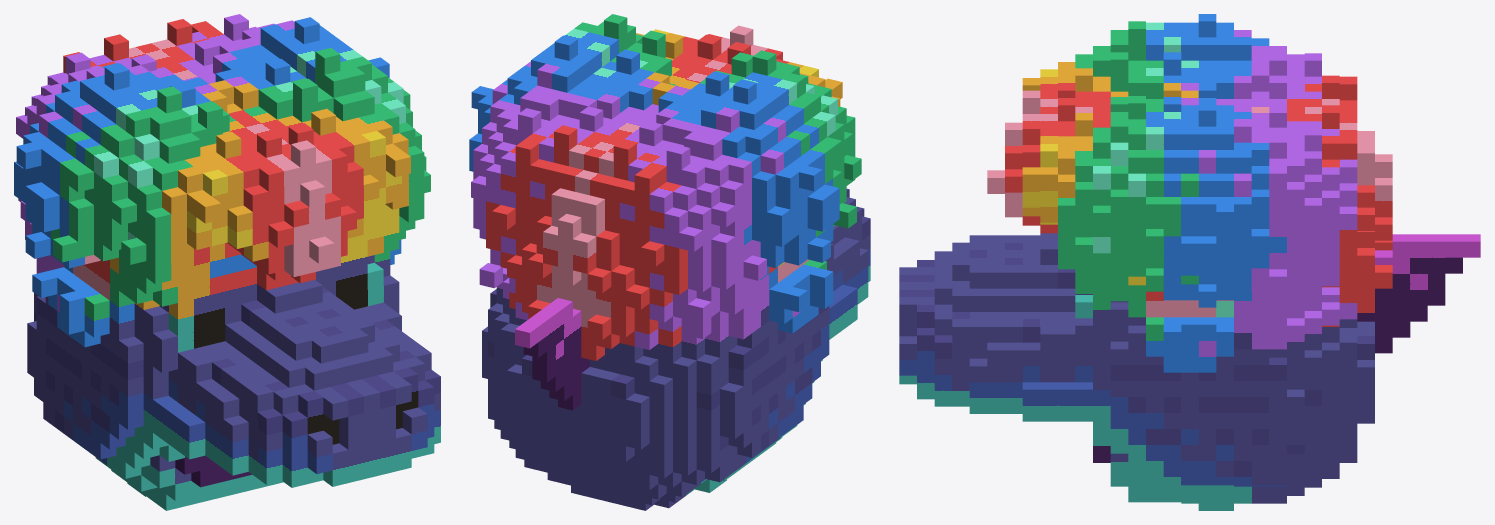
The model's file is clown wig_rainbow spectacles.gltf.
3 renders of one model, left to right at view 1: azimuth 30°, elevation 25°; view 2: azimuth 150°, elevation 25°; view 3: azimuth 270°, elevation 25°, orthographic. The views are drawn at different scales.
Visible parts, largest first — view 1: C08_H_ClownW_RedG_RainbowSpec-Mesh; view 2: C08_H_ClownW_RedG_RainbowSpec-Mesh; view 3: C08_H_ClownW_RedG_RainbowSpec-Mesh.
Boxes of the visible parts, x1=… form: C08_H_ClownW_RedG_RainbowSpec-Mesh: x1=14, y1=14, x2=440, y2=510; C08_H_ClownW_RedG_RainbowSpec-Mesh: x1=469, y1=14, x2=870, y2=510; C08_H_ClownW_RedG_RainbowSpec-Mesh: x1=899, y1=14, x2=1480, y2=510.
Size of the model in its own units: 23 by 26 by 33.
1 material, 1 textured.
